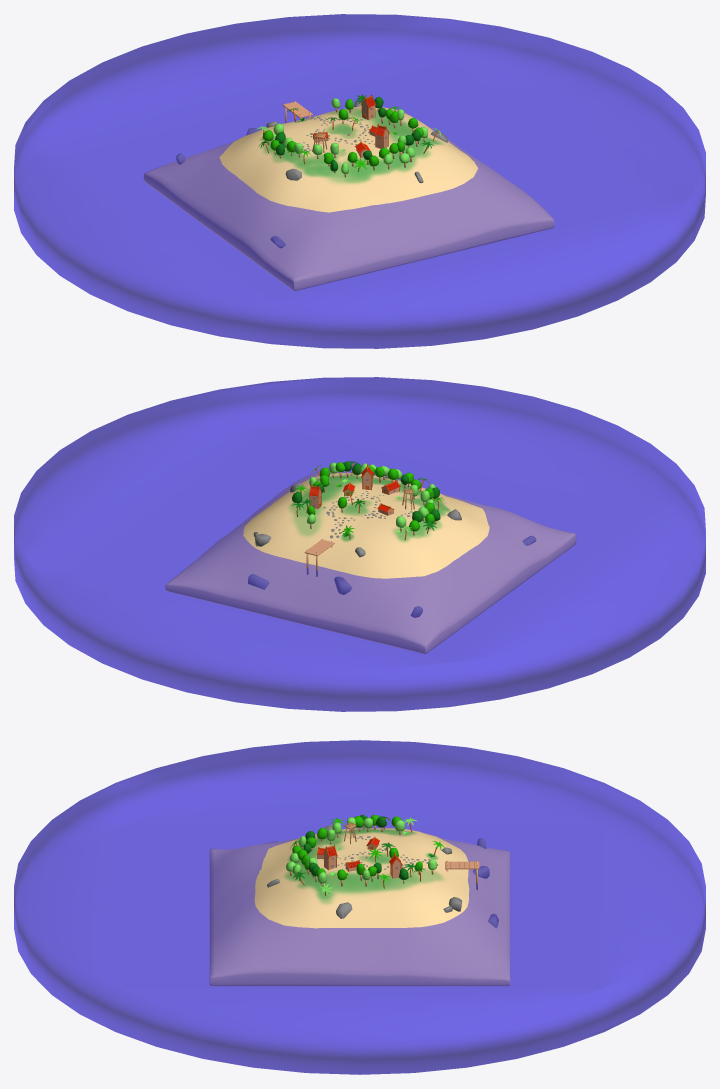
Rendered from island.glb.
The picture shows the model from 3 angles, top to bottom: view 1: azimuth 30°, elevation 25°; view 2: azimuth 150°, elevation 25°; view 3: azimuth 270°, elevation 25°; orthographic projection.
Parts seen in each view (by area): view 1: Cube, Cube.001; view 2: Cube, Cube.001; view 3: Cube, Cube.001.
Boxes of the visible parts, x1=… form: Cube: x1=14, y1=14, x2=705, y2=348; Cube.001: x1=143, y1=106, x2=554, y2=291; Cube: x1=14, y1=377, x2=705, y2=711; Cube.001: x1=165, y1=472, x2=576, y2=654; Cube: x1=14, y1=740, x2=705, y2=1074; Cube.001: x1=209, y1=828, x2=510, y2=986.
Bounding box in the file's own units: 4.61 × 0.6403 × 4.61.
Materials: 12 (1 with a texture image).
